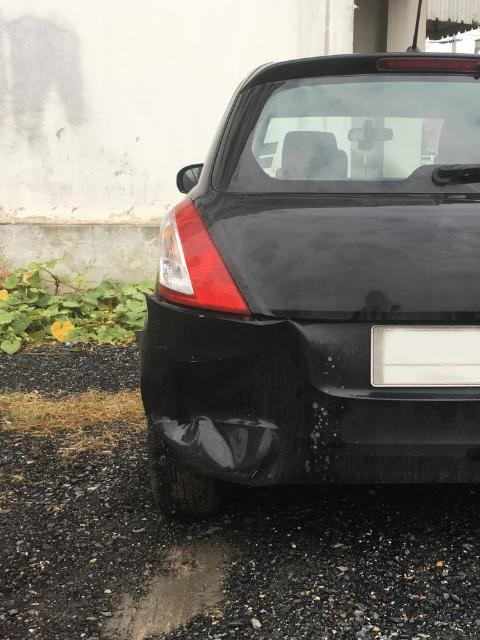dent: (143, 322, 306, 481)
